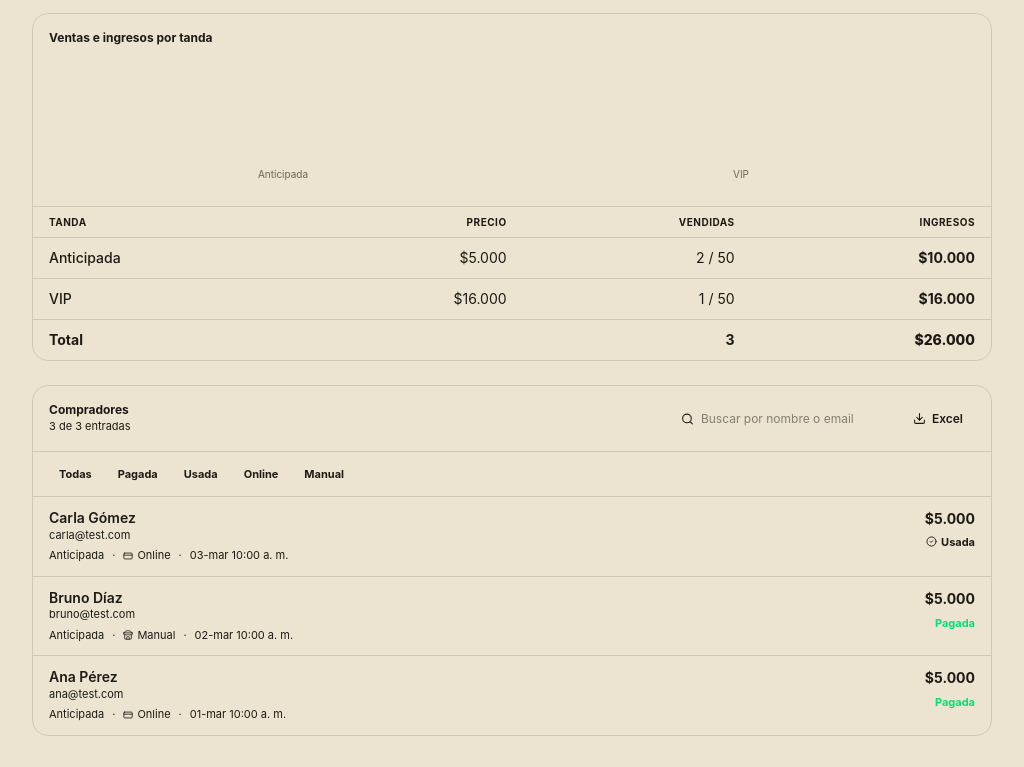
Test: OrganizadorEventoDetallePage — compradores › filtra por estado y por canal de venta
(page scrolled)
Expected: the text "Ana Pérez" is shown, [49,668,118,685]
Step 1. Click the button "Usada" → x=201, y=474, box [174,462,228,486]
(page scrolled)
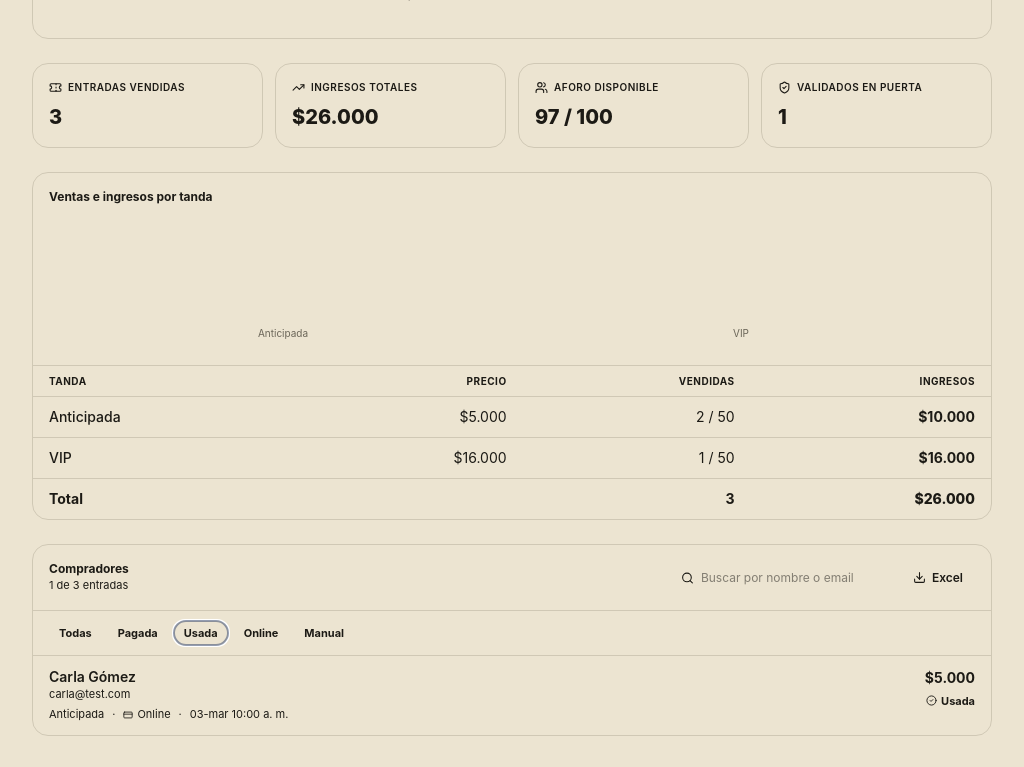
Expected: the text "Carla Gómez" is shown, [49,668,136,685]
Now the text "Ana Pérez" is gone
Now the text "1 de 3 entradas" is shown, box [49,578,128,592]
Step 2. Click the button "Manual" → x=324, y=633, box [294,621,354,645]
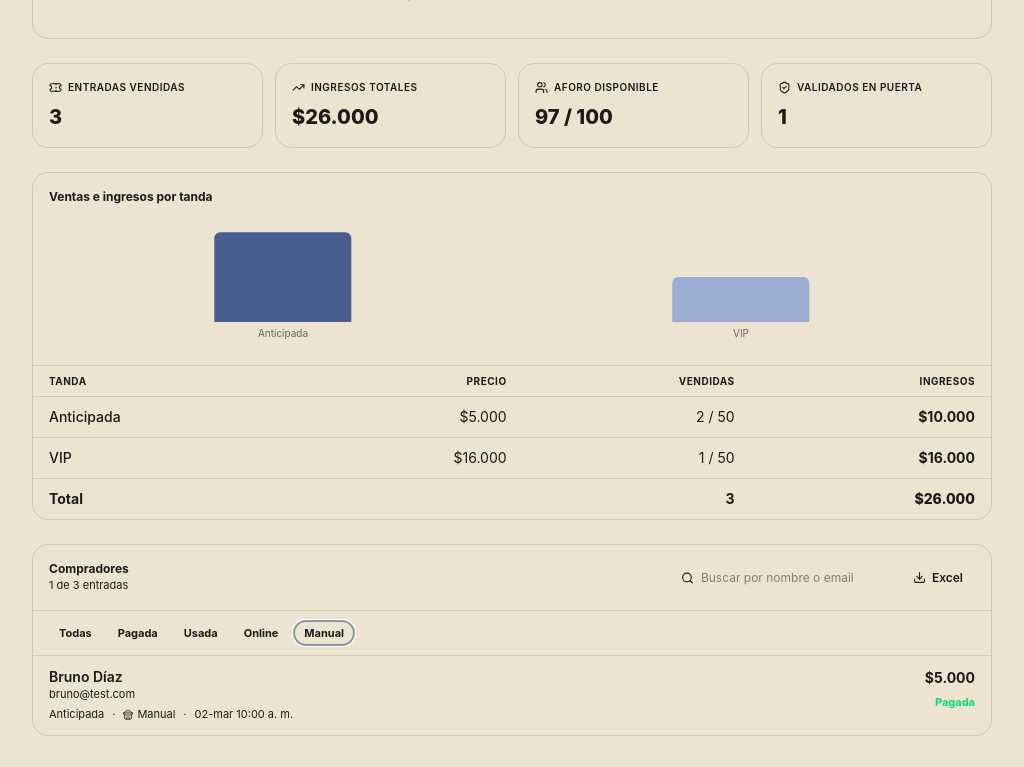
Now the text "Bruno Díaz" is shown, box [49,668,123,685]
Now the text "Carla Gómez" is gone
Step 3. Click the button "Todas" → x=75, y=633, box [49,621,102,645]
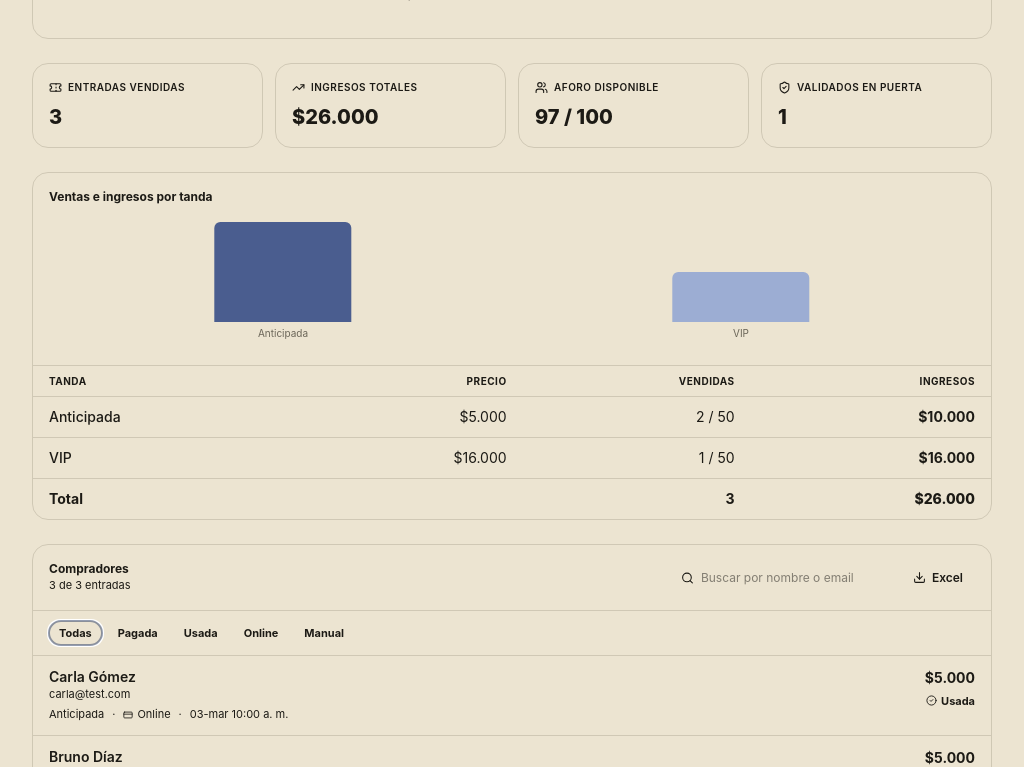
Now the text "3 de 3 entradas" is shown, box [49,578,131,592]
